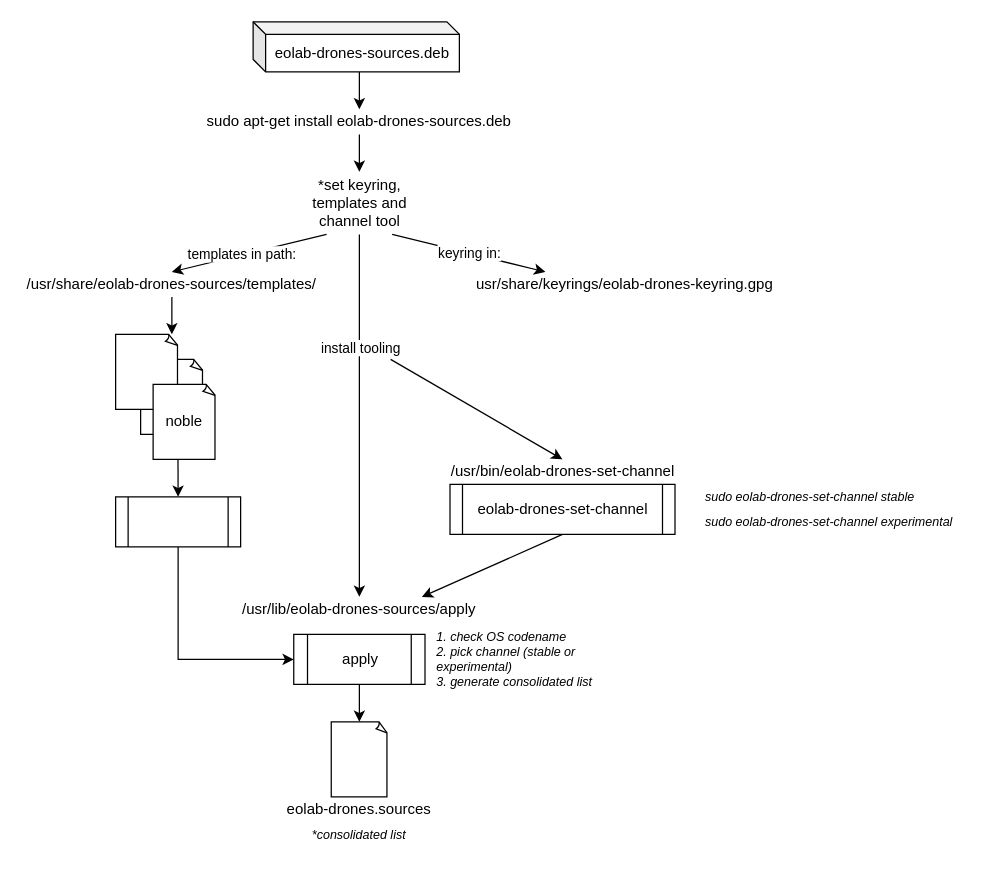
Image size: 986x869. Some labels were removed from this diagram. The centre of each missing label's shape, as x and y in pixels:
"jammy" goes at point (146, 371).
"postinst" goes at point (177, 521).
